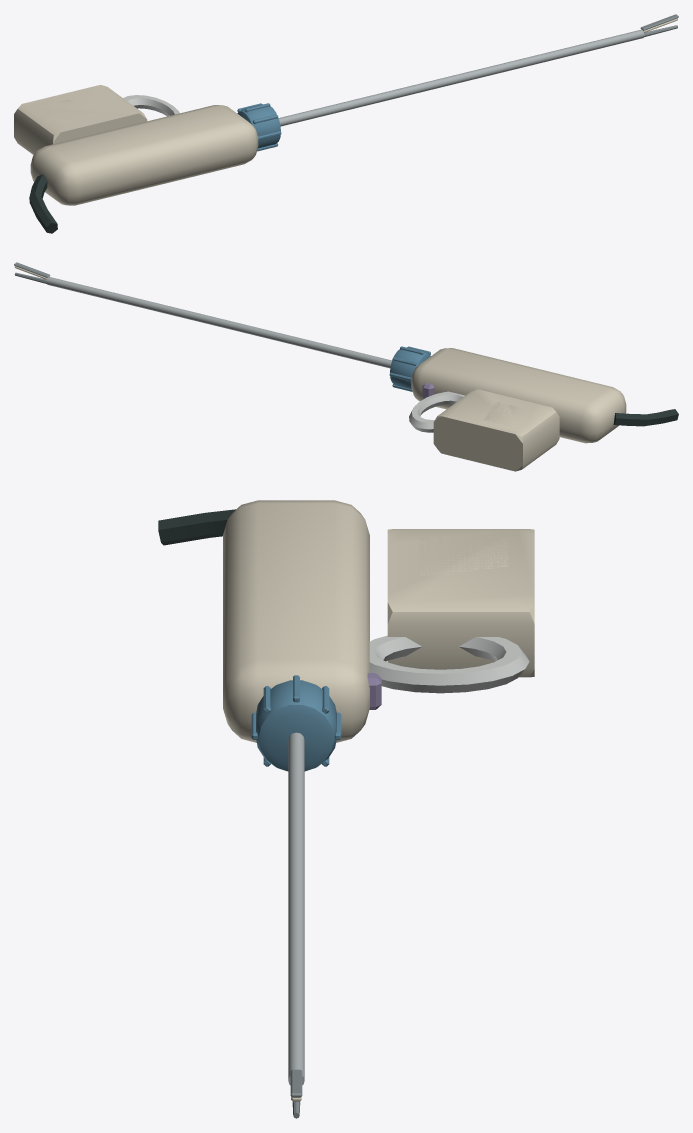
Rendered from sc-ultrasonic-shears.glb.
The picture shows the model from 3 angles, top to bottom: view 1: azimuth 30°, elevation 25°; view 2: azimuth 150°, elevation 25°; view 3: azimuth 270°, elevation 25°; orthographic projection. The views are drawn at different scales.
Visible parts, largest first — view 1: sc-ultrasonic-shears; view 2: sc-ultrasonic-shears; view 3: sc-ultrasonic-shears.
Part boxes in pixels (<box>): sc-ultrasonic-shears: <box>14,14,678,233</box>; sc-ultrasonic-shears: <box>14,262,678,471</box>; sc-ultrasonic-shears: <box>158,500,534,1118</box>.
Size of the model in its own units: 0.4946 by 0.0305 by 0.128.
